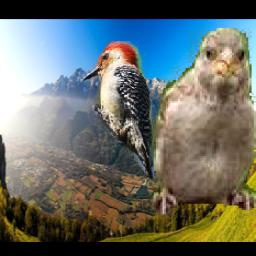Sparrow: (151, 26, 256, 228)
Woodpecker: (79, 42, 154, 180)
